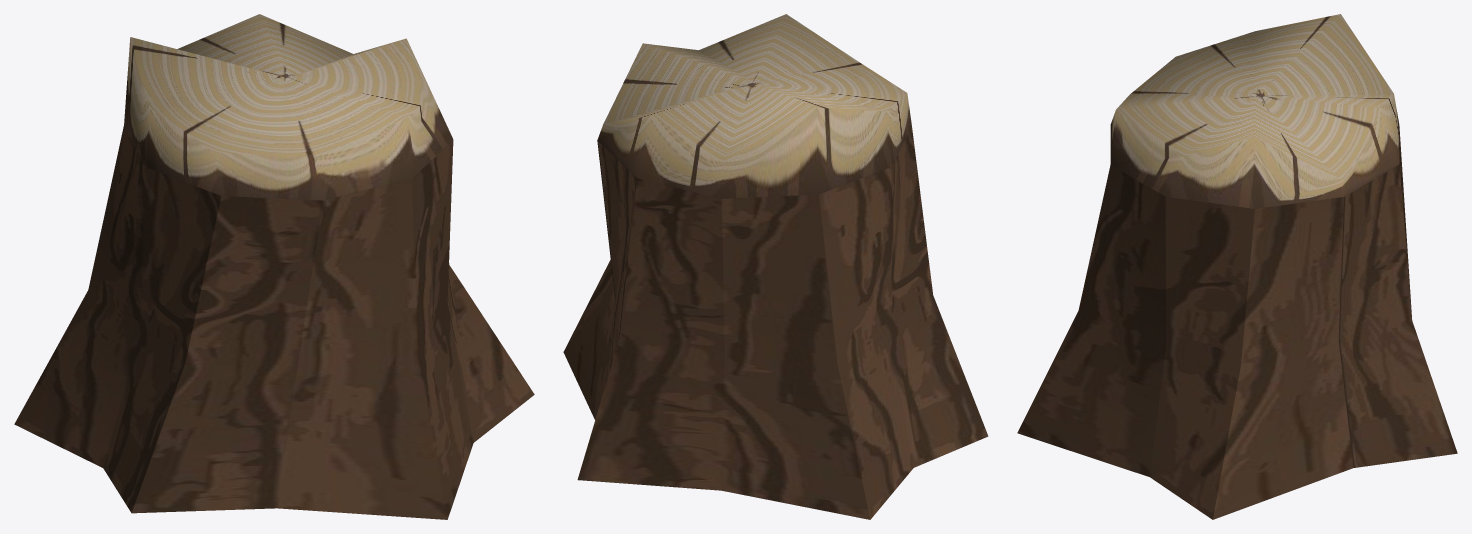
The model's file is Log.fbx.
The picture shows the model from 3 angles, left to right: view 1: azimuth 30°, elevation 25°; view 2: azimuth 150°, elevation 25°; view 3: azimuth 270°, elevation 25°; orthographic projection. The views are drawn at different scales.
Parts seen in each view (by area): view 1: pCylinder1; view 2: pCylinder1; view 3: pCylinder1.
Boxes of the visible parts, <box> form: pCylinder1: <box>14,14,534,519</box>; pCylinder1: <box>563,14,988,519</box>; pCylinder1: <box>1017,14,1457,519</box>.
Bounding box in the file's own units: 2.96 × 2.59 × 2.9.
1 material, 1 textured.
